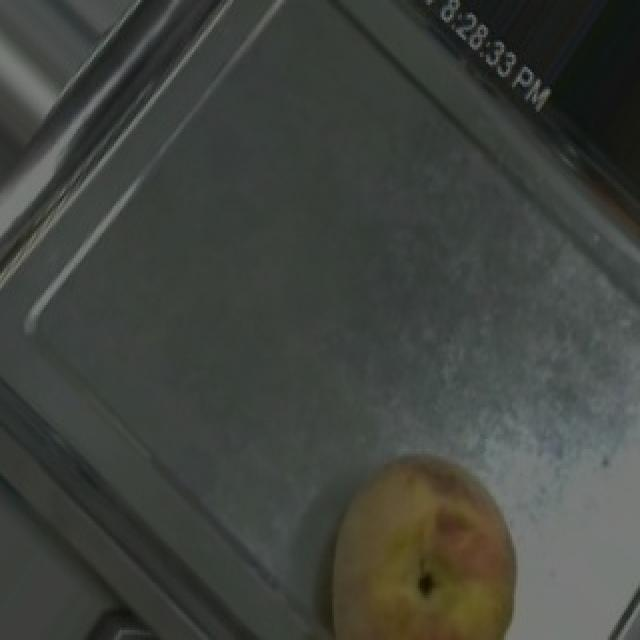Fruit: (286, 424, 560, 640)
